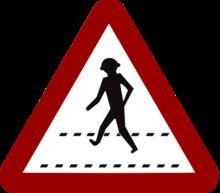Pedestrian Crossing: (13, 15, 207, 183)
